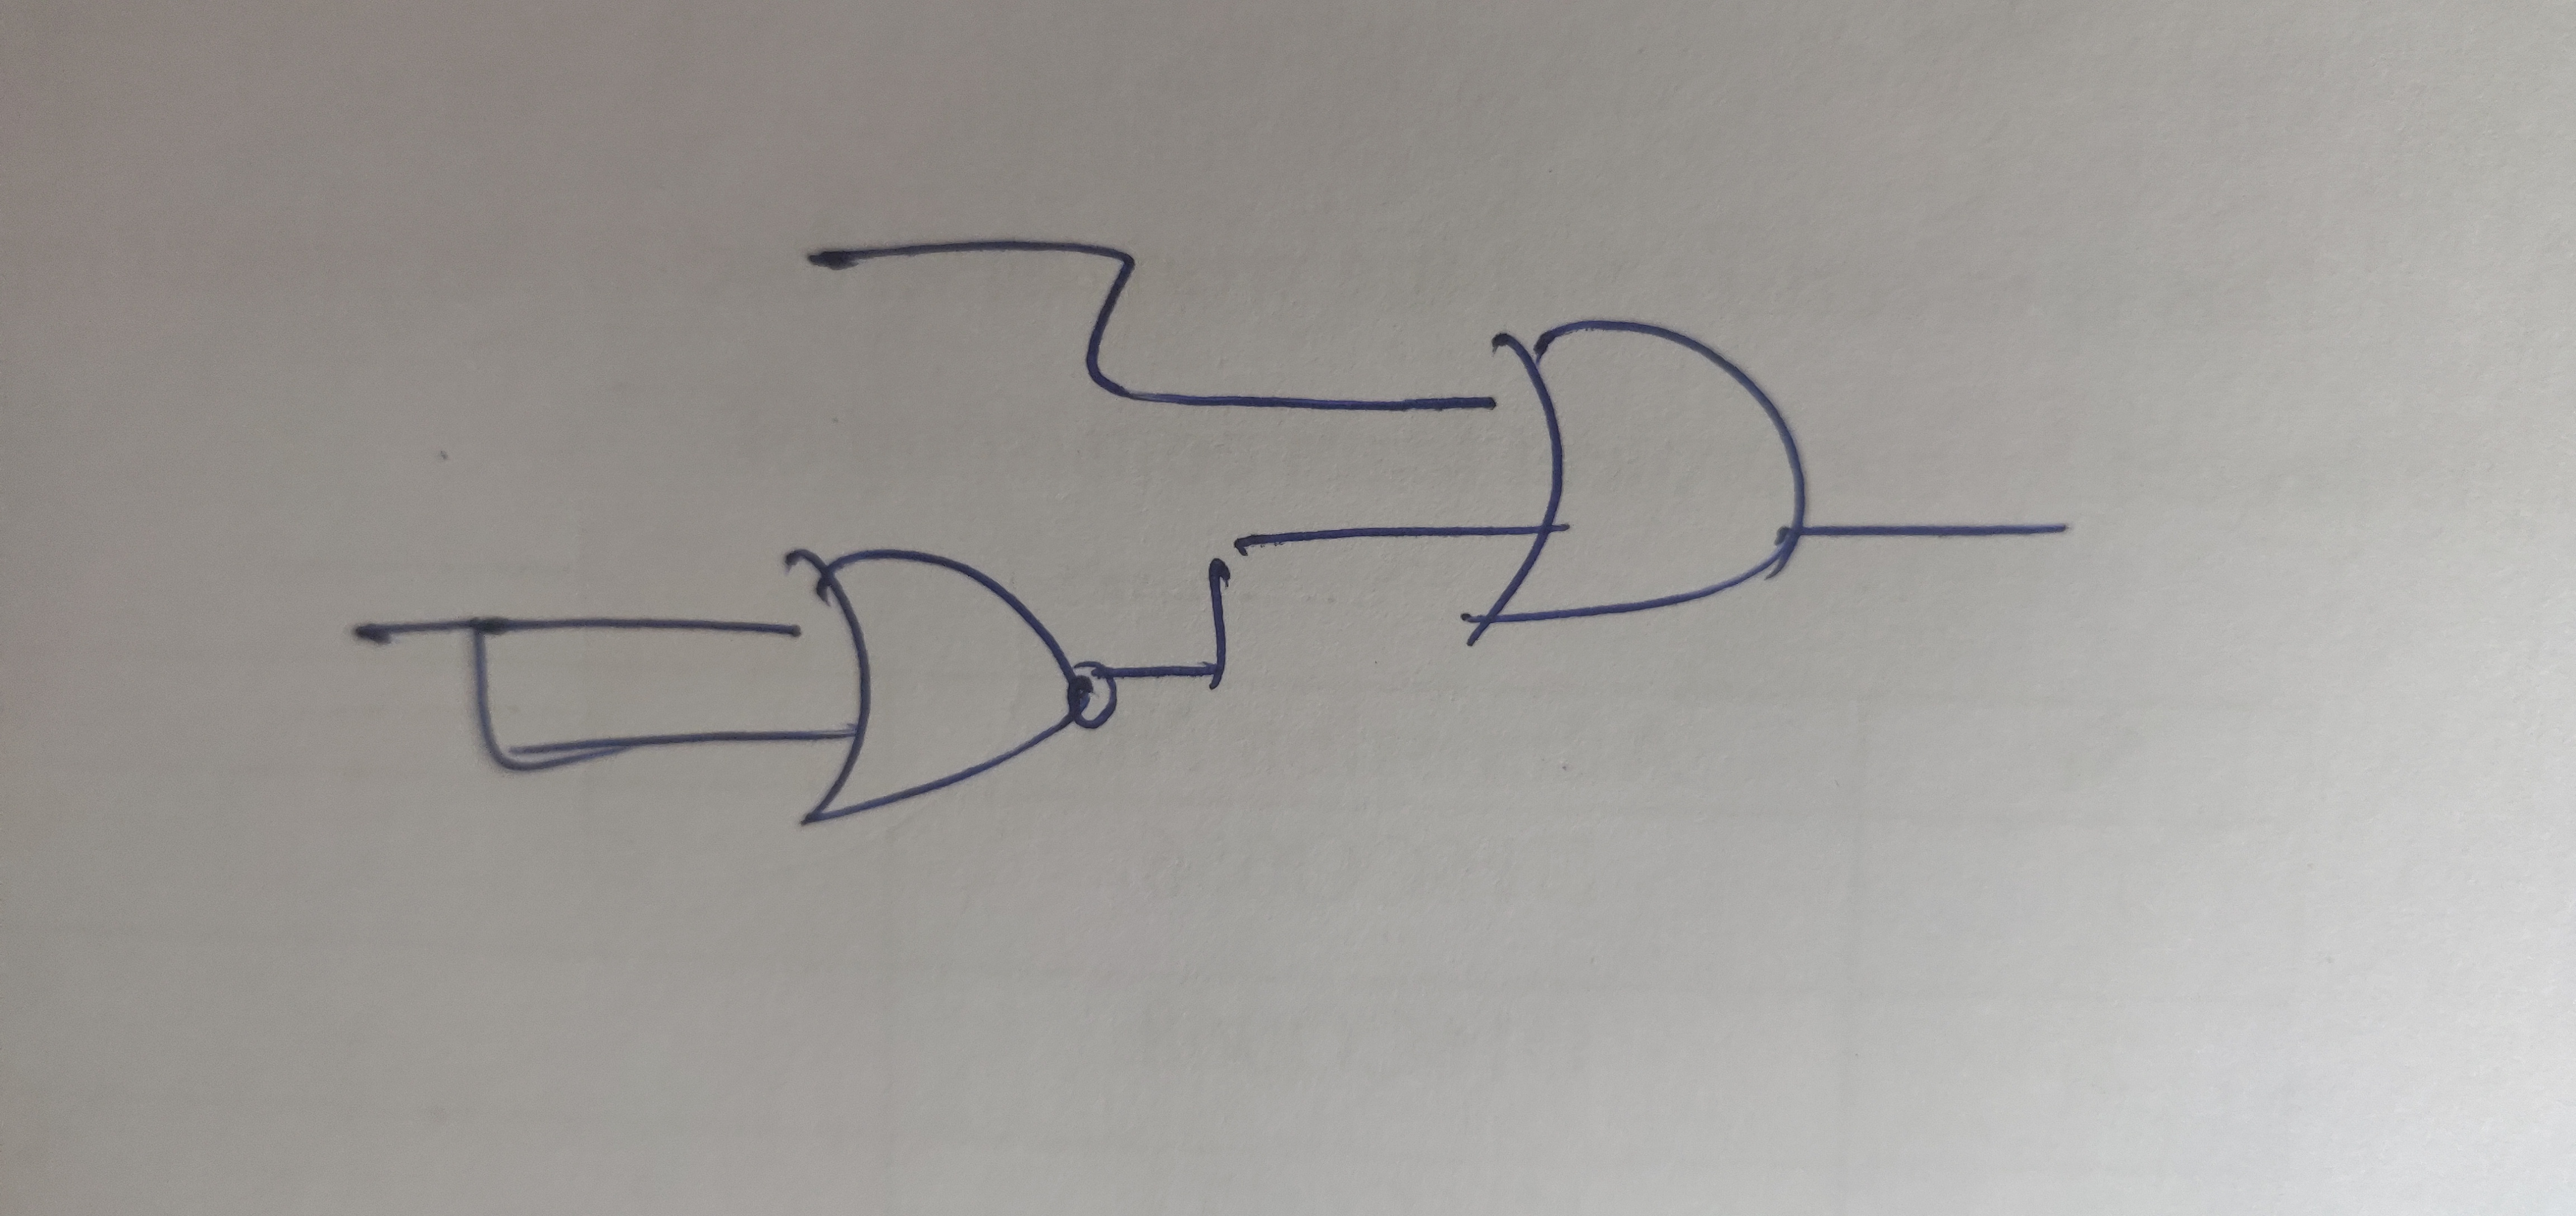nor: (708, 509, 1163, 874)
or: (1419, 273, 1879, 713)
